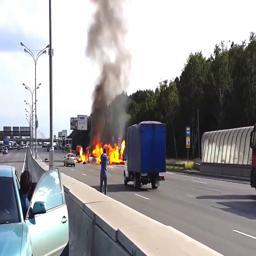fire: (79, 140, 126, 163)
